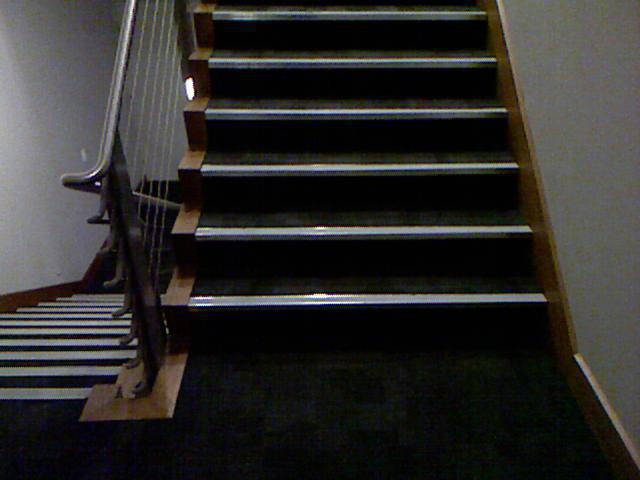Escaleras: (146, 19, 580, 358), (3, 285, 176, 423)
